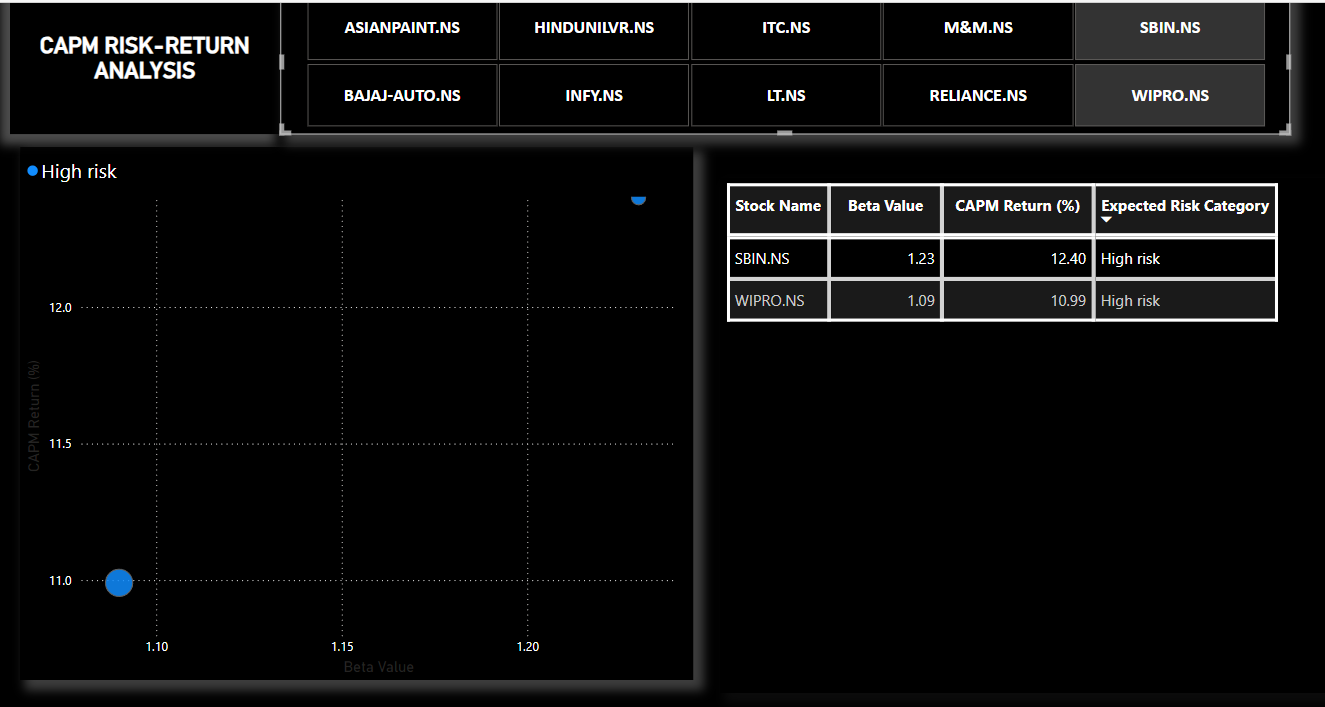

Layout of this report page (visuals, bound fields, positions):
{"tool":"powerbi","page":{"name":"Capm risk-return analysis","canvas":[1280,720],"ordinal":0},"visuals":[{"type":"textbox","box":[11.3,27.4,259.7,138.7],"z":0},{"type":"slicer","fields":{"Values":["Analysis.Stock Name"]},"box":[271.1,26.9,974.7,139.2],"z":1000},{"type":"scatterChart","fields":{"X":["Analysis.Beta Value"],"Y":["Analysis.CAPM Return (%)"],"Size":["Sum(Analysis.CAGR Return (%))"],"Series":["Analysis.Expected Risk Category"]},"box":[20.8,178.3,649.8,514.2],"z":2000},{"type":"tableEx","fields":{"Values":["Analysis.Stock Name","Analysis.Beta Value","Analysis.CAPM Return (%)","Analysis.Expected Risk Category"]},"box":[696.2,208.9,583.8,497.1],"z":3000}]}

Visuals, with their boxes on the page's 1280x720 design canvas (x1, y1, x2, y2). These are canvas units, not pixel positions in the 1325x707 screenshot, which may show the page scaled, cropped or inside an application window:
textbox: 11, 27, 271, 166
slicer - Analysis.Stock Name: 271, 27, 1246, 166
scatterChart - Analysis.Beta Value x Analysis.CAPM Return (%): 21, 178, 671, 692
tableEx - Analysis.Stock Name x Analysis.Beta Value: 696, 209, 1280, 706
